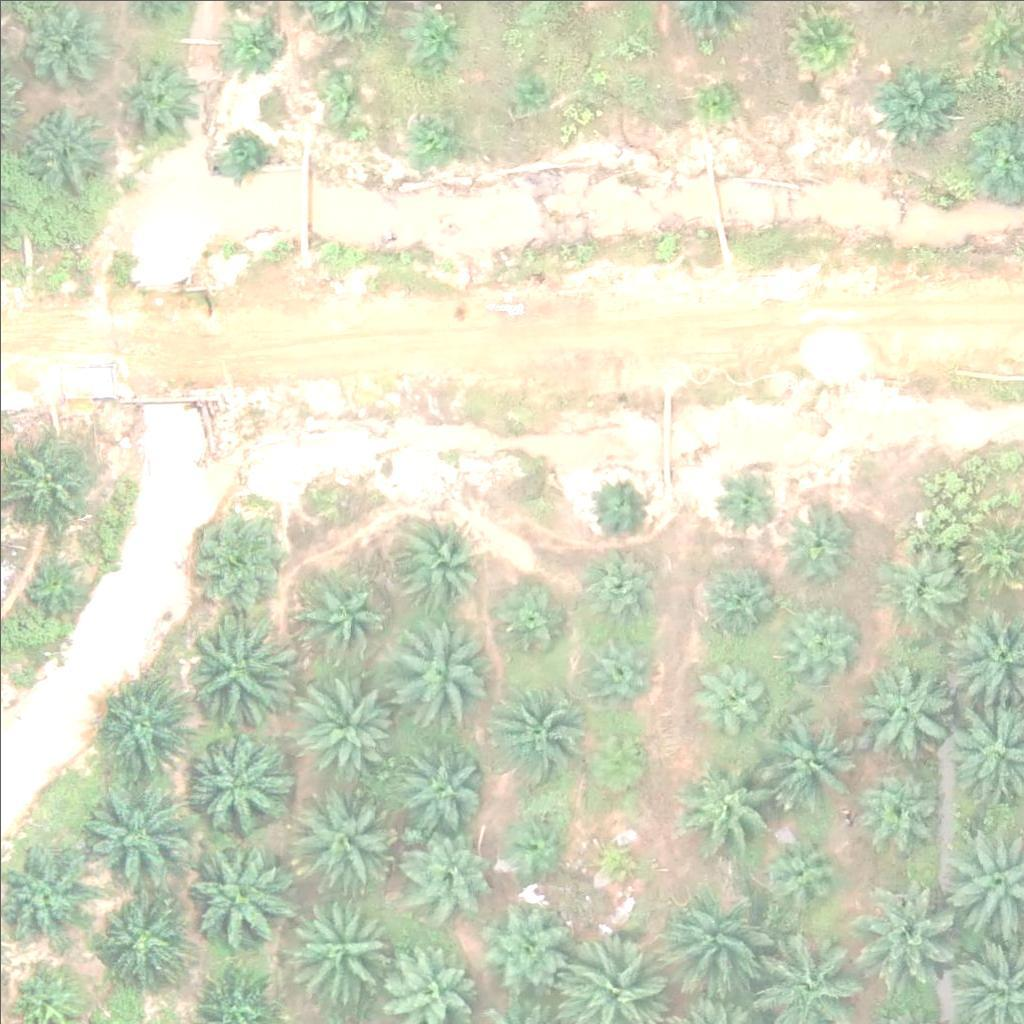Kelapa_Sawit: (82, 782, 195, 895), (181, 838, 294, 951), (177, 727, 290, 840), (662, 891, 774, 1005), (179, 615, 291, 728), (851, 886, 963, 999), (96, 673, 196, 774), (188, 500, 288, 601), (291, 893, 391, 994), (296, 781, 396, 882), (300, 673, 400, 774), (472, 900, 572, 1001), (680, 752, 780, 853), (766, 703, 866, 804), (856, 655, 956, 756), (481, 686, 581, 787), (389, 622, 489, 722), (97, 889, 185, 977), (404, 826, 492, 914), (579, 543, 667, 631), (757, 827, 845, 915), (23, 100, 110, 189), (402, 738, 489, 827), (23, 2, 110, 90), (113, 54, 200, 142), (295, 568, 382, 656), (393, 519, 480, 607), (570, 624, 657, 712), (853, 758, 940, 846), (876, 538, 963, 626), (878, 59, 953, 135), (699, 653, 774, 729), (697, 565, 772, 641), (498, 805, 573, 881), (579, 718, 654, 794), (491, 584, 566, 659), (779, 599, 854, 674), (781, 499, 856, 574), (15, 542, 90, 617), (790, 12, 853, 75), (720, 470, 783, 533), (588, 474, 650, 537), (585, 830, 647, 893), (228, 22, 278, 73), (221, 133, 271, 183), (318, 70, 368, 120), (410, 116, 460, 166), (415, 13, 465, 63), (513, 67, 551, 105), (700, 83, 737, 121), (623, 32, 648, 58)
